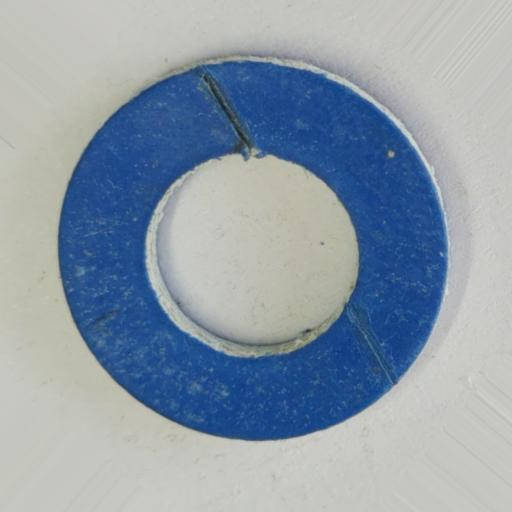defect: (201, 71, 255, 159), (345, 306, 397, 387)
